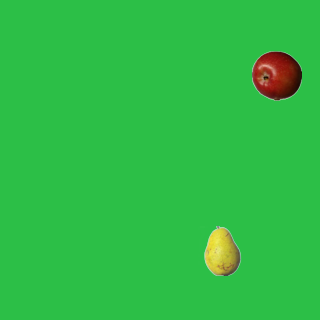Apple Braeburn: (251, 50, 301, 100)
Pear Monster: (197, 225, 247, 275)
